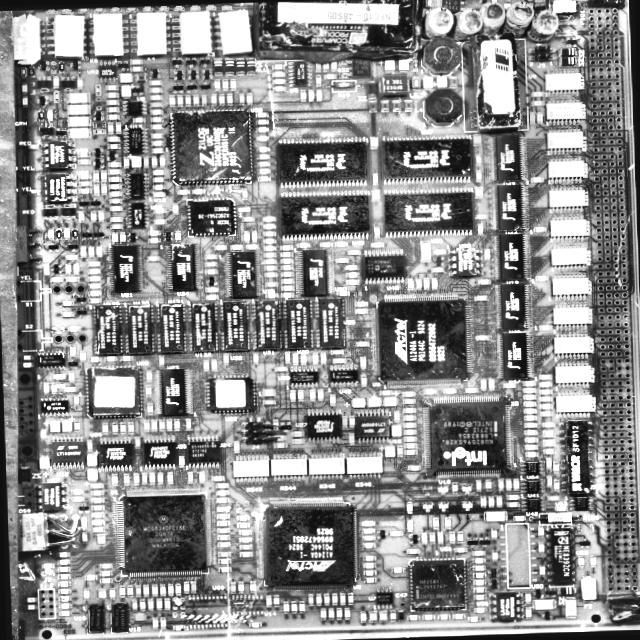PCB: (10, 1, 640, 640)
